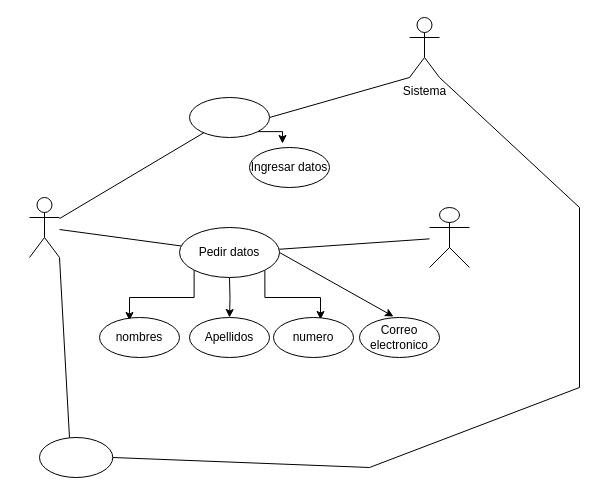
Image size: 598x495. Some labels were removed from this diagram. The shapes that lost their labels are listed below. From the top down, each one's centre as x and y in pixels, then its label:
At point 229,117: "Iniciar sesion".
At point 44,227: "Empleado".
At point 449,237: "Cliente".
At point 75,457: "Base de datos".
